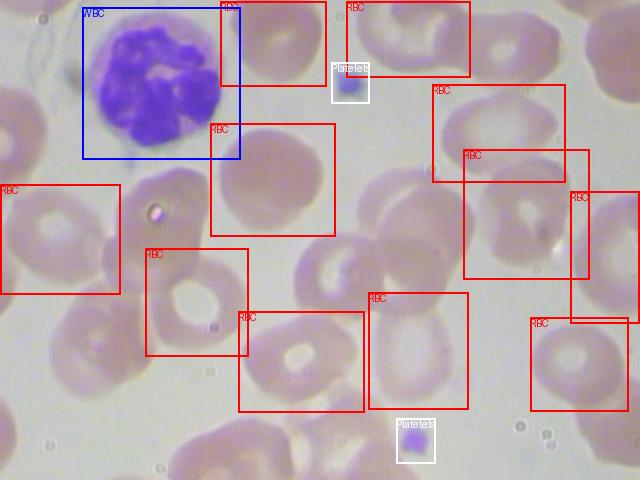Platelets: (396, 418, 435, 463), (331, 62, 369, 103)
RBC: (463, 149, 589, 279), (210, 123, 335, 236), (0, 184, 120, 294), (432, 84, 565, 182), (238, 311, 364, 412), (368, 292, 468, 409), (145, 248, 248, 356), (346, 1, 470, 77), (530, 317, 628, 411), (570, 191, 639, 323), (220, 1, 326, 86)
WBC: (82, 7, 240, 159)
